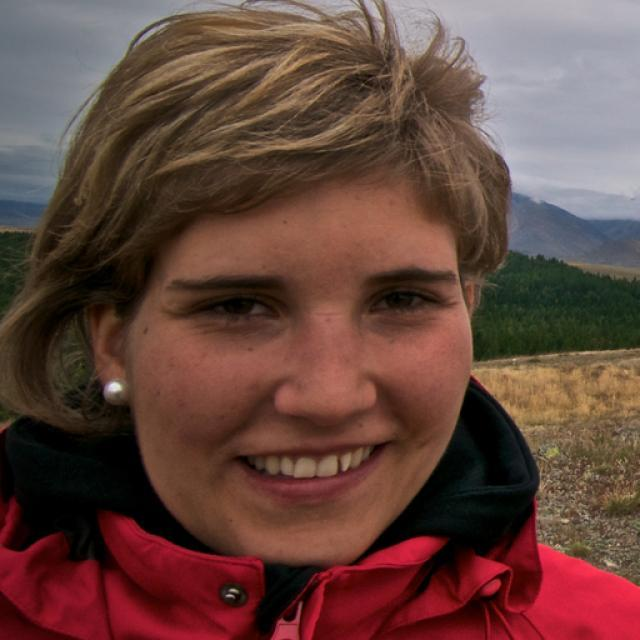happy: (128, 182, 472, 566)
